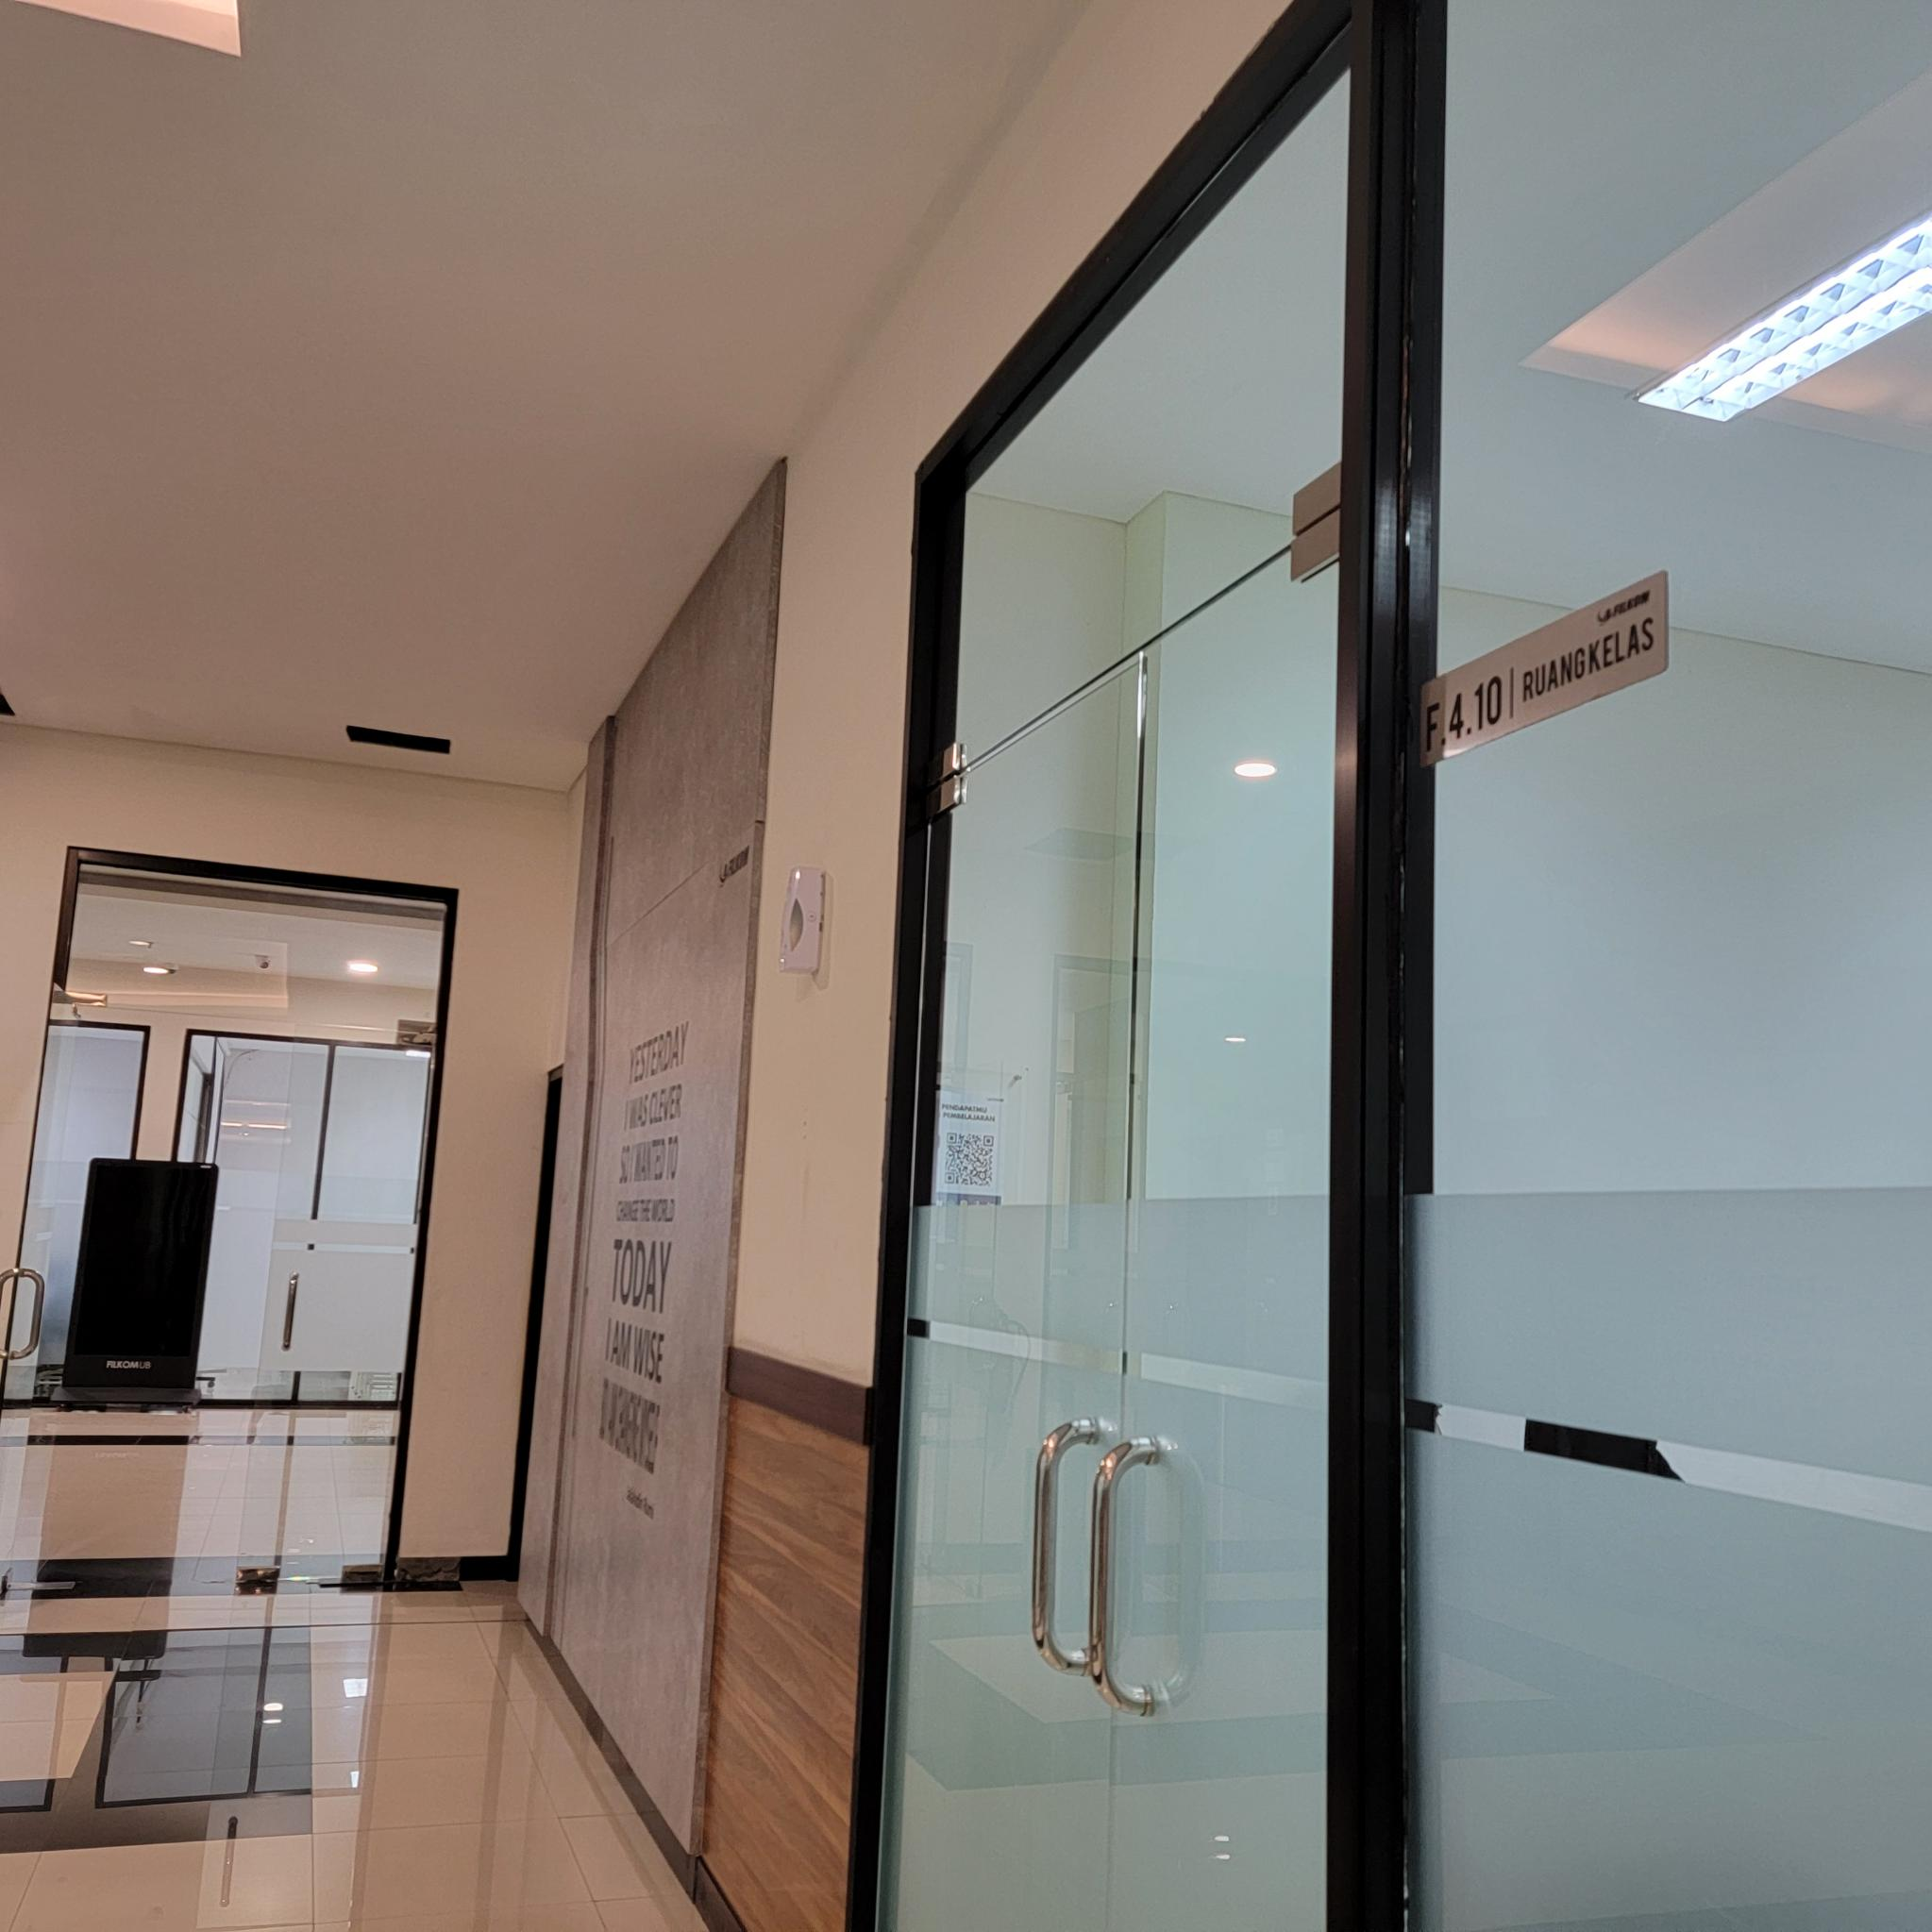plate: (1421, 570, 1670, 770)
